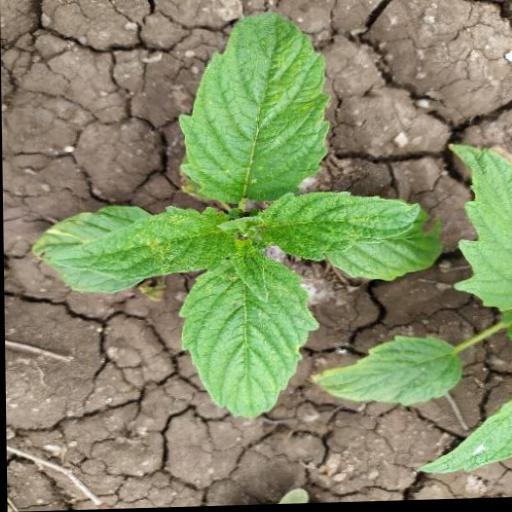crop: (22, 16, 419, 415)
